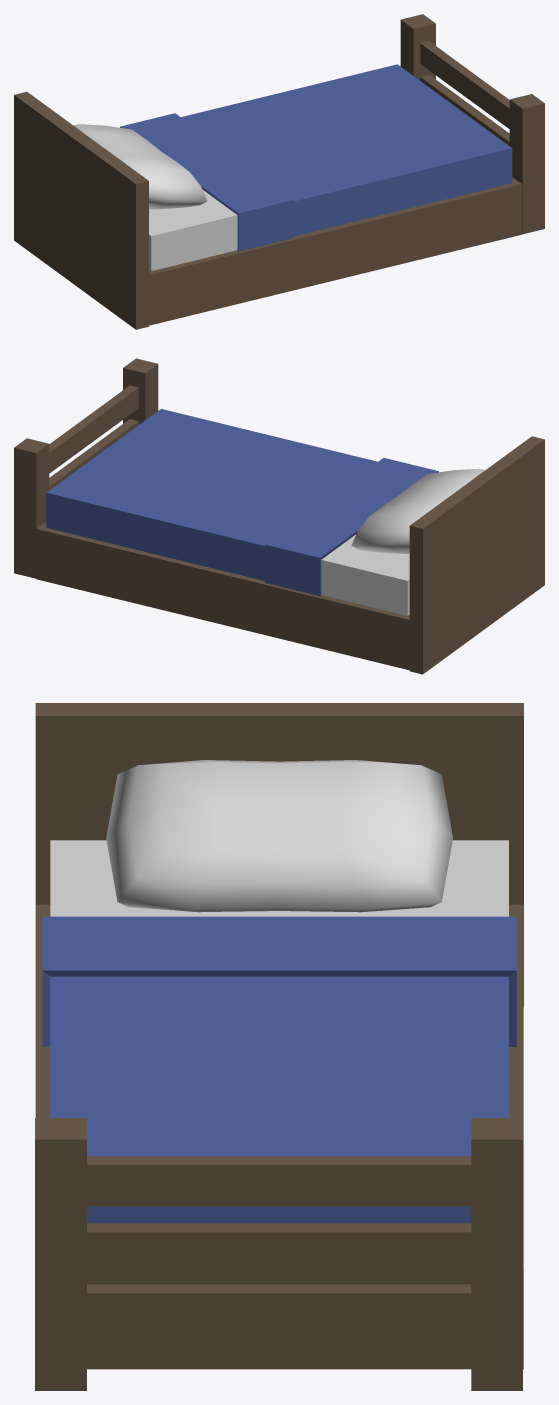
The model's file is 2beds.fbx.
3 renders of one model, top to bottom at view 1: azimuth 30°, elevation 25°; view 2: azimuth 150°, elevation 25°; view 3: azimuth 270°, elevation 25°, orthographic. The views are drawn at different scales.
Visible parts, largest first — view 1: baseig; view 2: baseig; view 3: baseig.
Boxes of the visible parts, box(x1,y1,x2,y2) form: baseig: box(14, 14, 544, 329); baseig: box(14, 358, 544, 674); baseig: box(35, 703, 523, 1390).
Size of the model in its own units: 1246 by 424 by 645.
